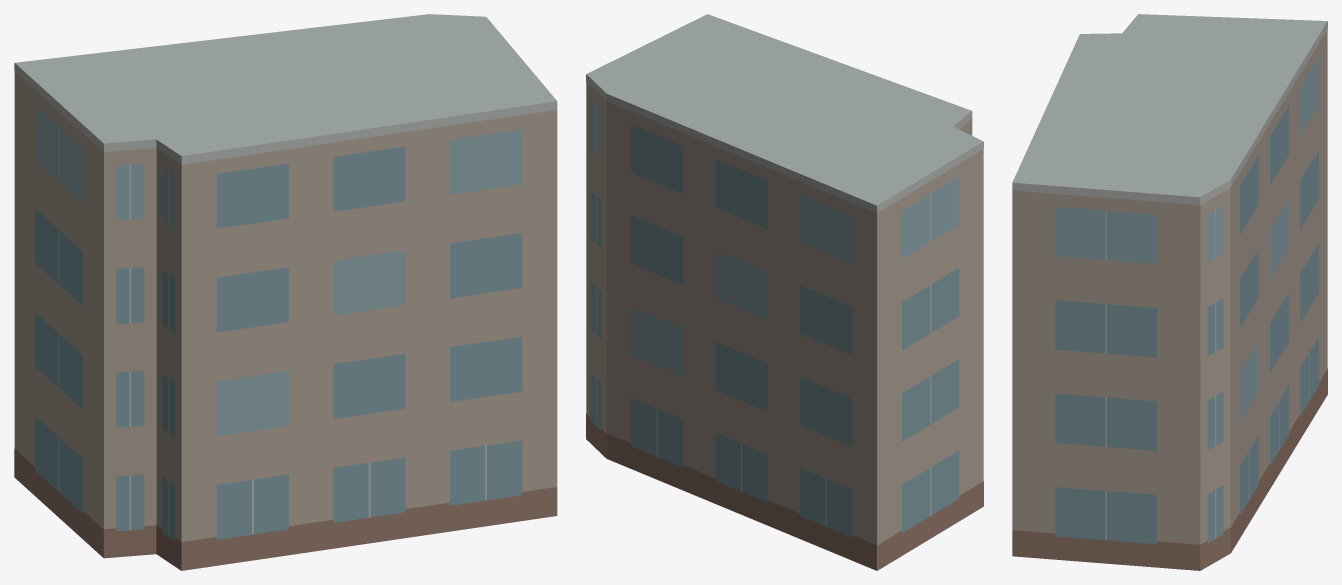
Rendered from survey-upis-32642559.glb.
3 renders of one model, left to right at view 1: azimuth 30°, elevation 25°; view 2: azimuth 150°, elevation 25°; view 3: azimuth 270°, elevation 25°, orthographic. The views are drawn at different scales.
Parts seen in each view (by area): view 1: survey-upis-32642559.tmp; view 2: survey-upis-32642559.tmp; view 3: survey-upis-32642559.tmp.
Part boxes in pixels (bbox=[...]): survey-upis-32642559.tmp: bbox=[14, 14, 557, 570]; survey-upis-32642559.tmp: bbox=[586, 14, 983, 570]; survey-upis-32642559.tmp: bbox=[1012, 14, 1327, 570].
Size of the model in its own units: 12.32 by 11.7 by 8.96.
